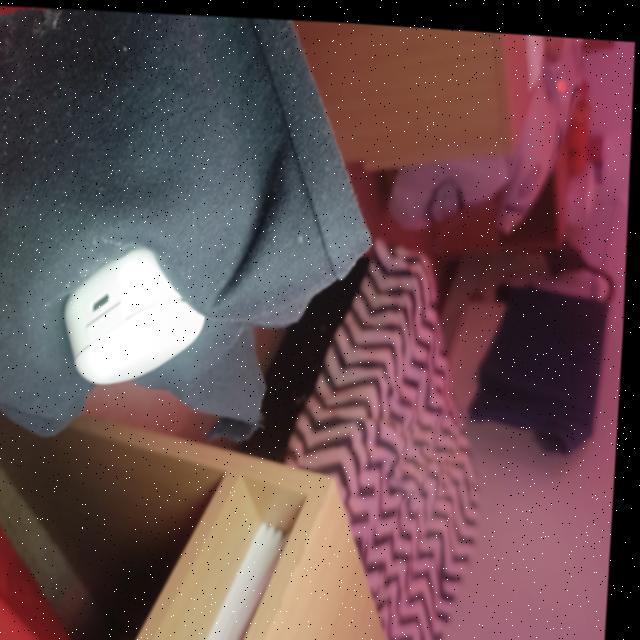headphones: (67, 245, 207, 382)
